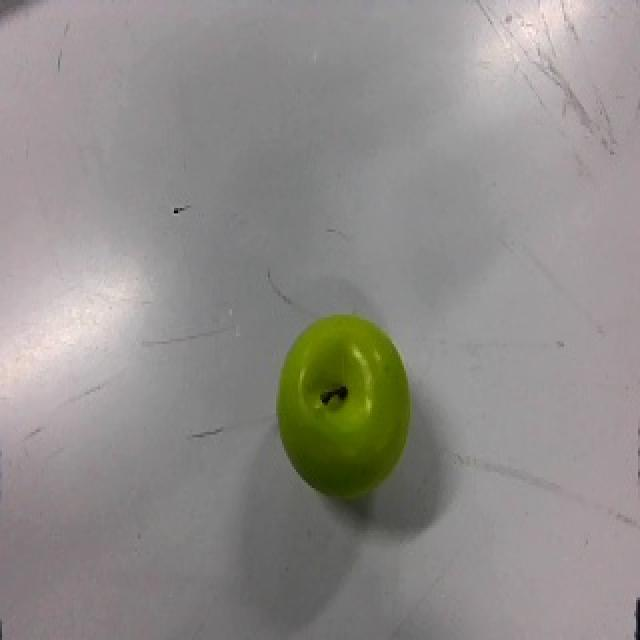apple: (276, 312, 412, 504)
